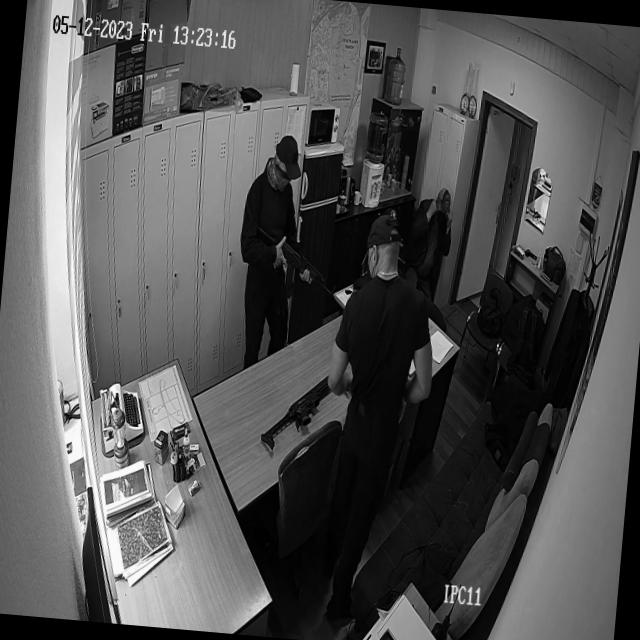gun: (251, 224, 344, 302), (261, 382, 330, 458)
person: (317, 207, 444, 548), (408, 186, 458, 296)
person with a gun: (230, 125, 346, 328)
